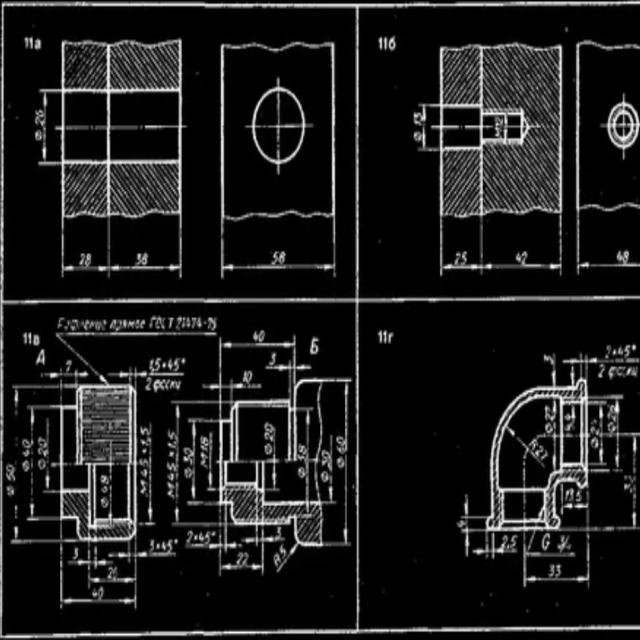marking_line: (9, 381, 62, 545), (219, 222, 337, 278), (170, 399, 218, 529), (477, 221, 565, 280), (57, 546, 137, 608), (106, 218, 183, 279), (26, 402, 60, 524), (576, 213, 640, 274), (216, 338, 300, 380), (59, 218, 112, 278), (185, 417, 219, 509), (333, 377, 351, 550), (86, 544, 141, 591), (217, 529, 268, 578), (438, 224, 484, 277), (183, 527, 225, 580), (36, 89, 61, 168), (138, 425, 154, 528), (296, 405, 312, 499), (109, 544, 176, 562), (201, 378, 261, 398), (44, 417, 59, 494), (132, 369, 185, 390), (242, 527, 286, 546), (205, 430, 218, 493), (67, 543, 93, 574), (265, 365, 313, 379), (106, 364, 131, 383), (93, 547, 114, 568), (266, 466, 281, 494), (108, 464, 114, 519), (39, 369, 65, 381), (73, 369, 87, 384)
numeric: (32, 333, 43, 348), (174, 317, 184, 333), (38, 438, 51, 449), (167, 429, 177, 443), (144, 377, 152, 394), (268, 351, 277, 366), (264, 422, 275, 434), (322, 448, 333, 459), (183, 446, 194, 457), (139, 457, 149, 469), (241, 369, 248, 385), (154, 357, 162, 371), (22, 438, 32, 449), (140, 438, 150, 449), (167, 538, 174, 553), (22, 330, 29, 345), (258, 330, 266, 343), (235, 551, 243, 564), (280, 545, 288, 558), (297, 443, 307, 453), (22, 448, 32, 458), (165, 461, 175, 471), (140, 425, 150, 435), (265, 433, 274, 444), (36, 448, 47, 457), (336, 436, 347, 445), (200, 434, 209, 445), (198, 529, 205, 543), (204, 531, 211, 545), (174, 357, 181, 371), (335, 445, 347, 453), (106, 566, 113, 579), (190, 317, 197, 330), (242, 551, 249, 564), (99, 475, 109, 484), (6, 472, 16, 481), (6, 462, 15, 472), (183, 455, 192, 465), (34, 117, 43, 127), (321, 461, 332, 469), (182, 315, 187, 332), (207, 317, 213, 331), (188, 530, 194, 544), (99, 585, 105, 599), (35, 109, 44, 118), (168, 441, 176, 451), (185, 317, 191, 330), (197, 316, 203, 329), (28, 331, 34, 344), (91, 587, 98, 598), (212, 317, 217, 332), (247, 370, 253, 382), (200, 444, 209, 452), (167, 473, 176, 481), (139, 469, 147, 478), (382, 330, 387, 344), (253, 330, 259, 341), (149, 540, 155, 551), (167, 359, 172, 372), (296, 453, 305, 460), (113, 566, 118, 578), (149, 359, 153, 373), (140, 479, 148, 486), (379, 331, 383, 344), (101, 486, 108, 493), (162, 540, 166, 552), (166, 451, 174, 457)
special_symbol: (275, 544, 298, 573), (5, 484, 16, 498), (321, 470, 331, 485), (33, 128, 43, 143), (100, 497, 110, 509), (21, 459, 31, 471), (297, 466, 306, 479), (337, 457, 346, 469), (183, 468, 192, 480), (265, 443, 273, 456), (38, 458, 45, 471)
